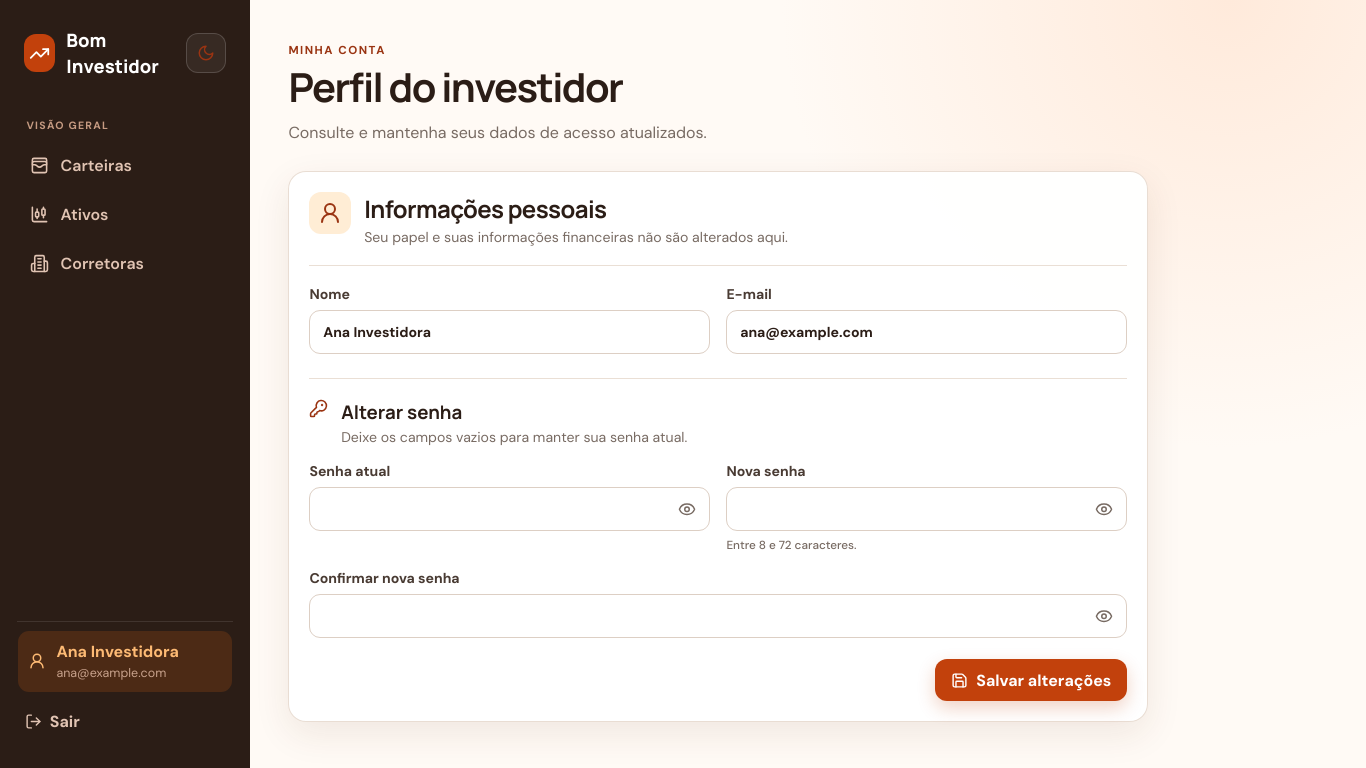
Test: controla a visibilidade de cada senha de forma independente
Type "password123" into the password field labelled "Senha atual".
click(510, 509); type("password123")  # box [309,487,710,531]
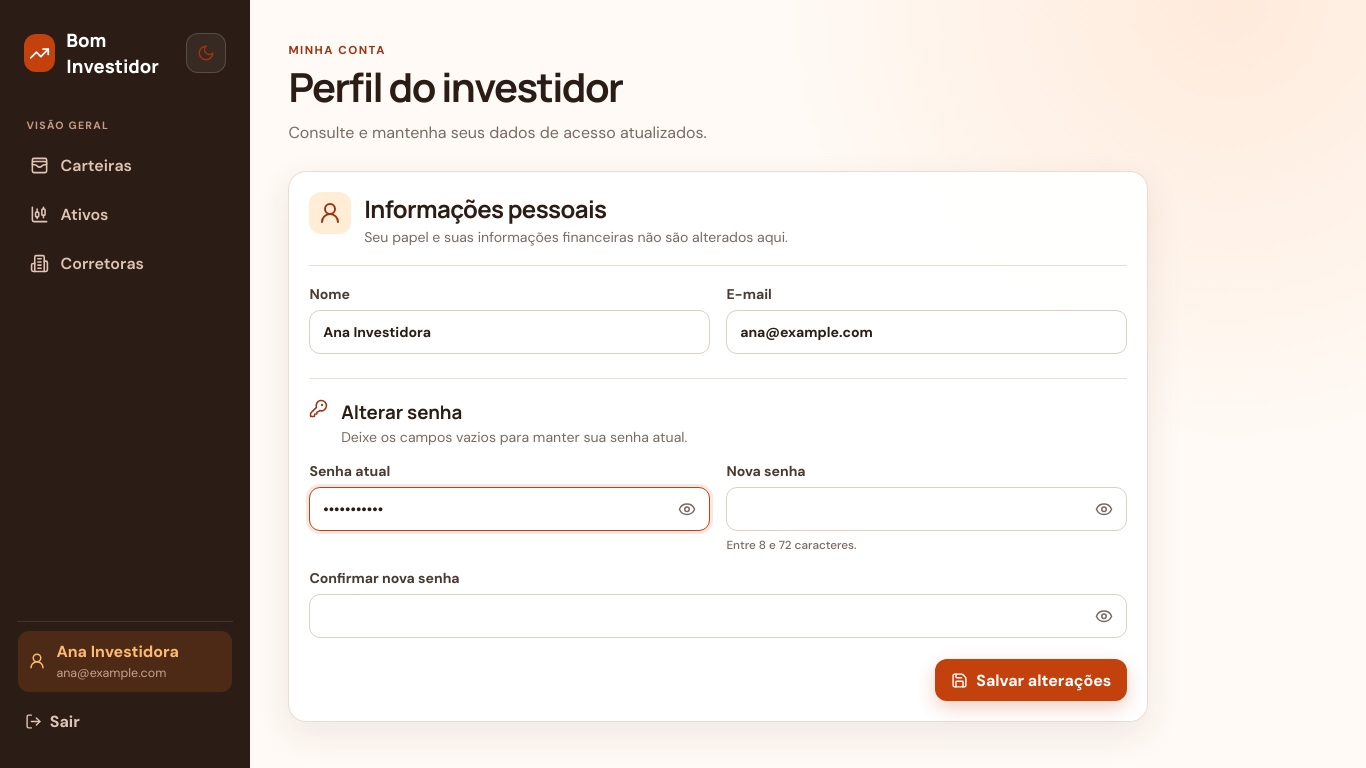
Type "new-password" into the password field labelled "Nova senha".
click(927, 509); type("new-password")  # box [726,487,1127,531]
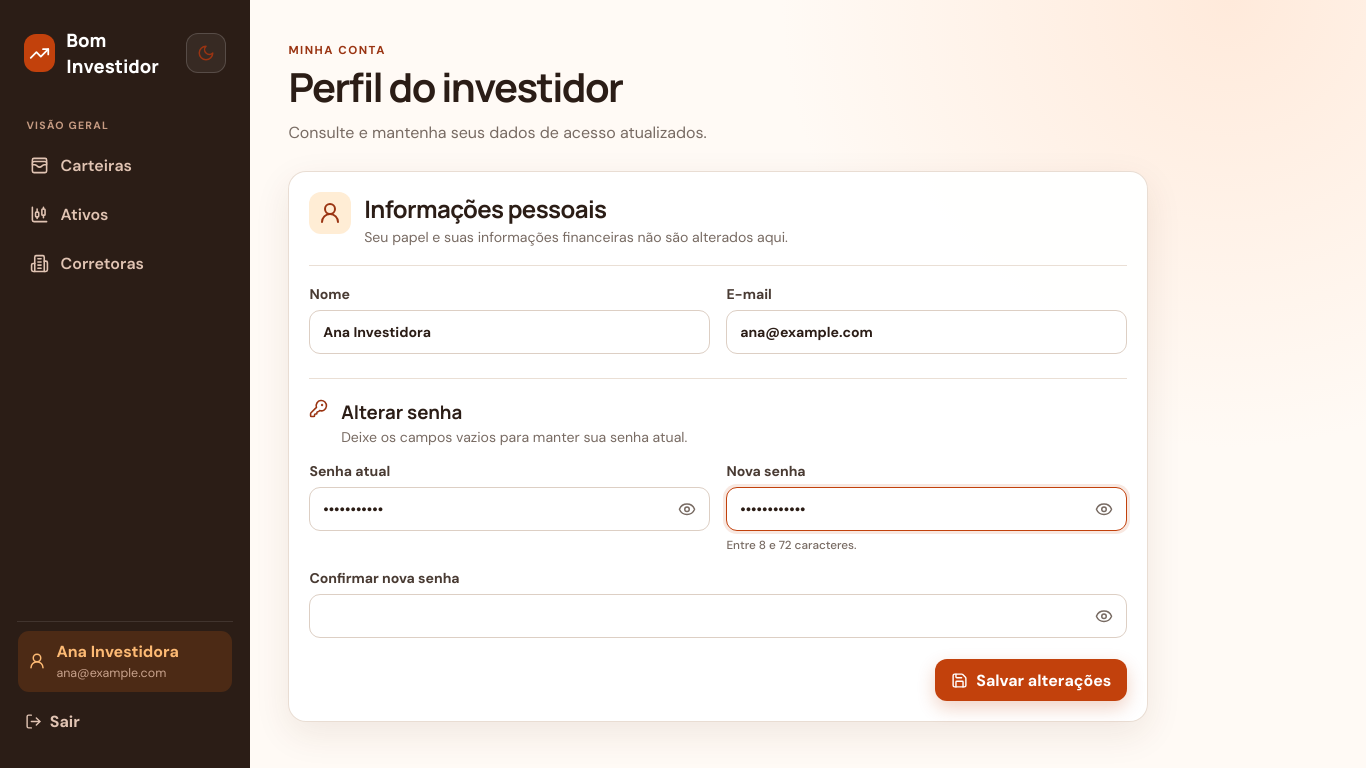
Click the 1st button named "Mostrar senha".
click(687, 509)  # box [668,490,706,528]
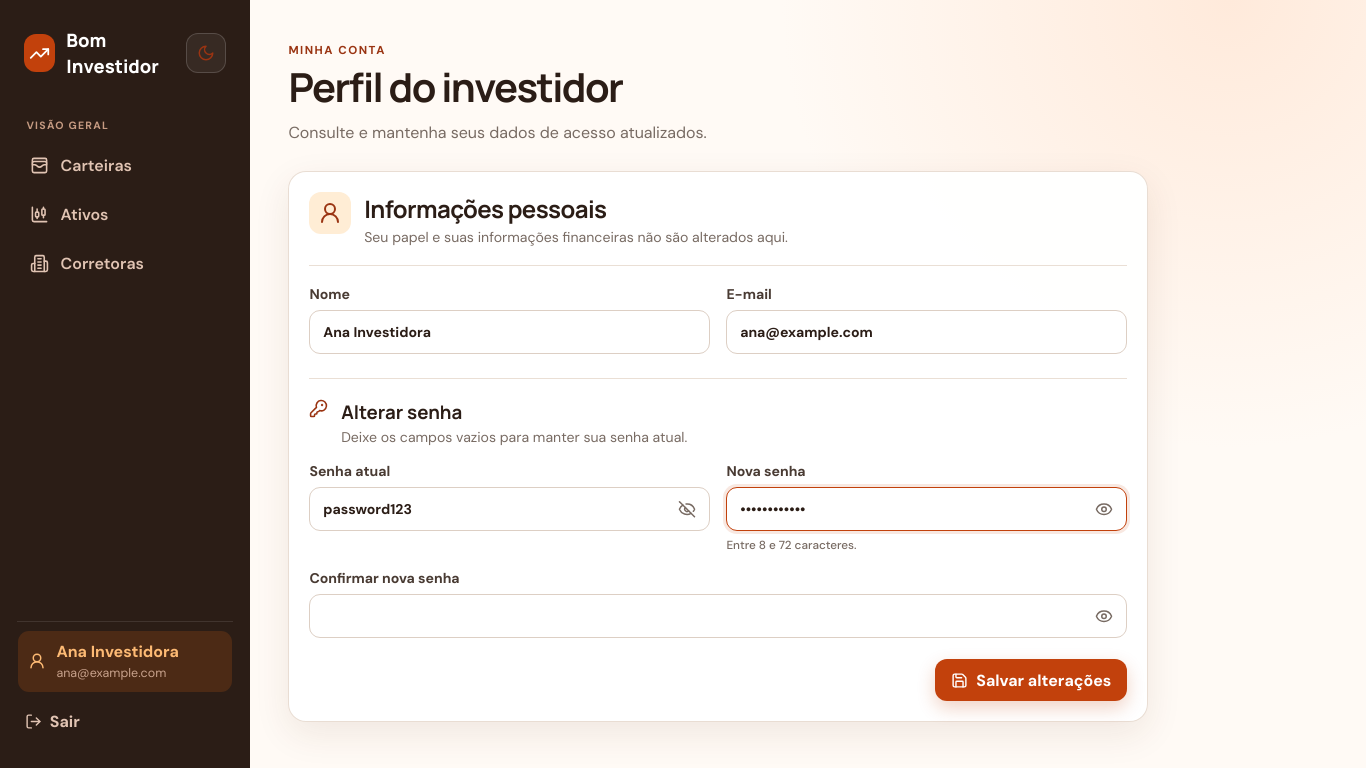
Expected: the field labelled "Senha atual" shows its text, [309,487,710,531]
